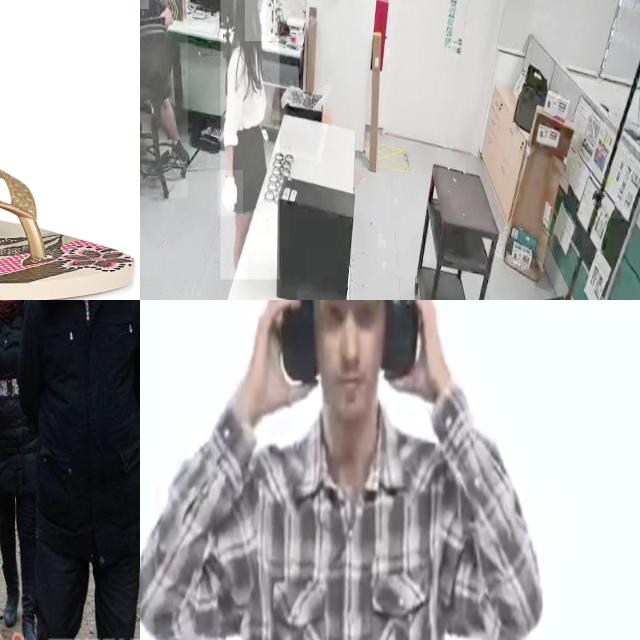Ear-protection: (275, 300, 427, 466)
Sandals: (0, 147, 137, 300)
face_mask: (245, 0, 266, 41)
hand_glove: (218, 170, 244, 216)
person: (220, 0, 279, 280), (140, 0, 188, 198)
shoes: (167, 133, 193, 169)
